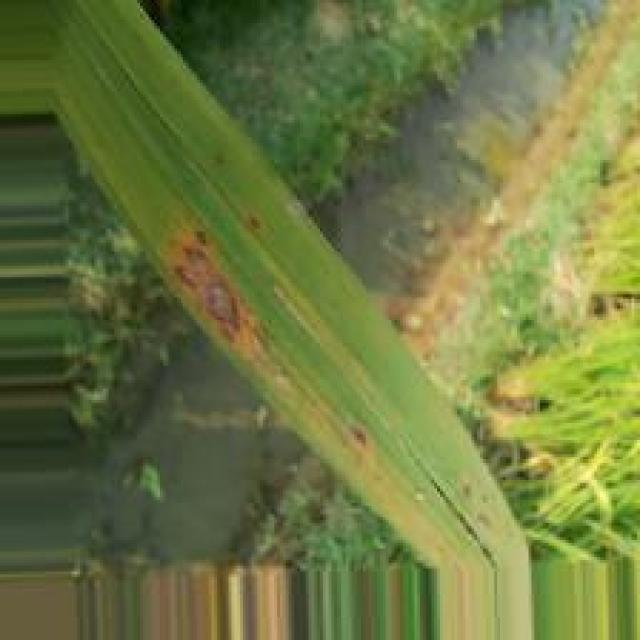Rice Tungro: (163, 223, 266, 368)
